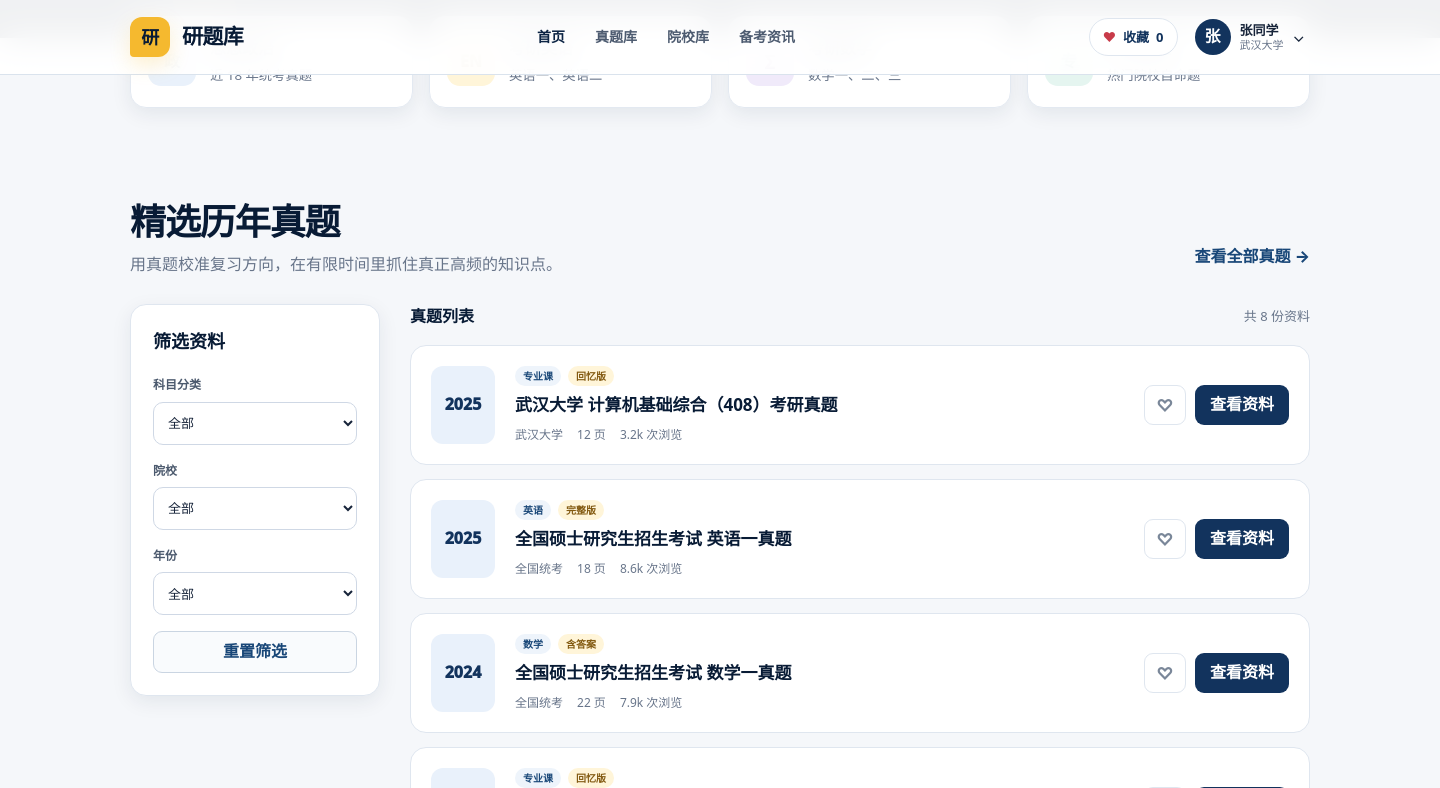
Test: PaperExplorer › shows a static-demo message instead of a broken download
The image size is (1440, 788).
(page scrolled)
Click the button "查看资料" in the row of "武汉大学 计算机基础综合（408）考研真题". click: (1242, 405)
box: [1195,385,1289,425]
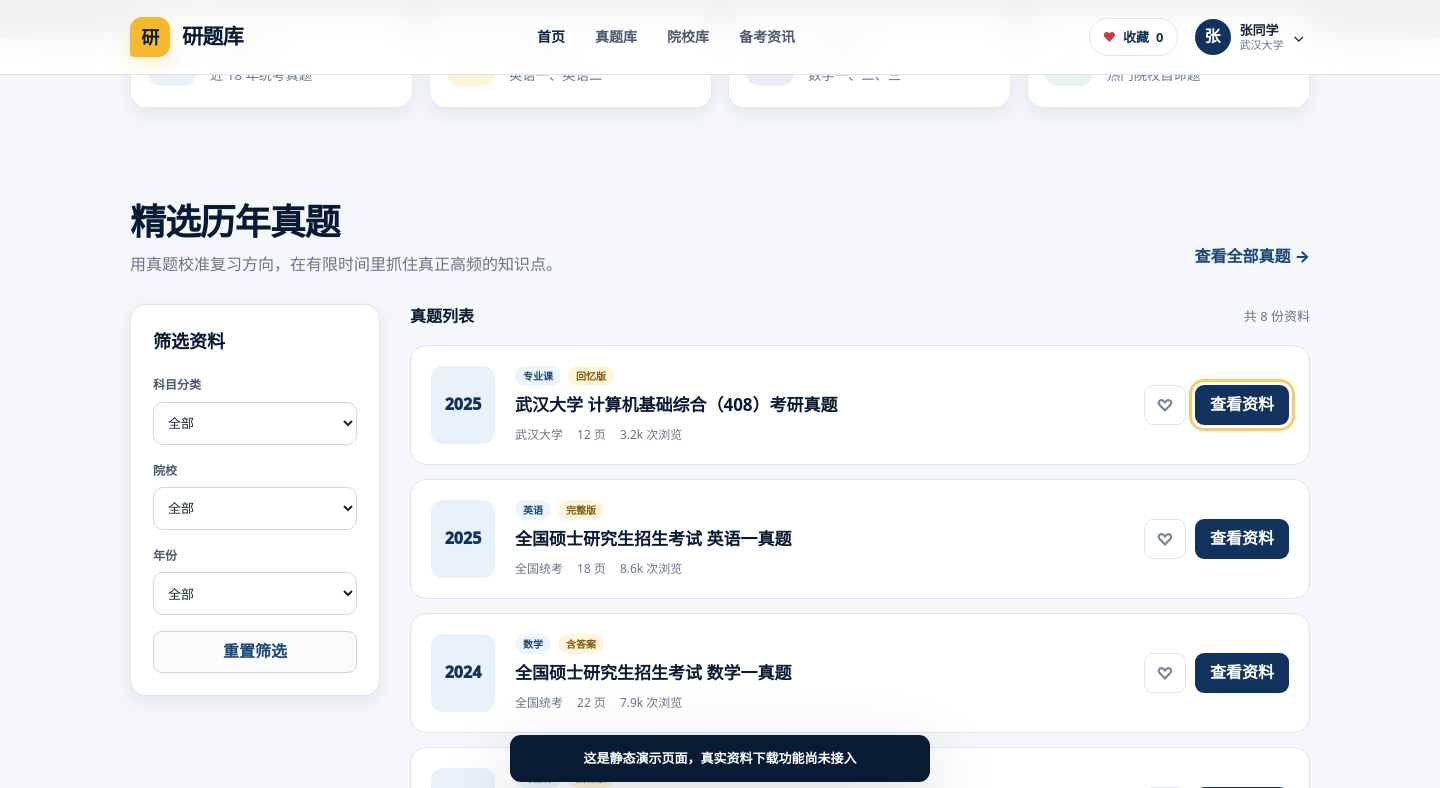
Expected: the message shows "真实资料下载功能尚未接入", [584,749,856,767]
